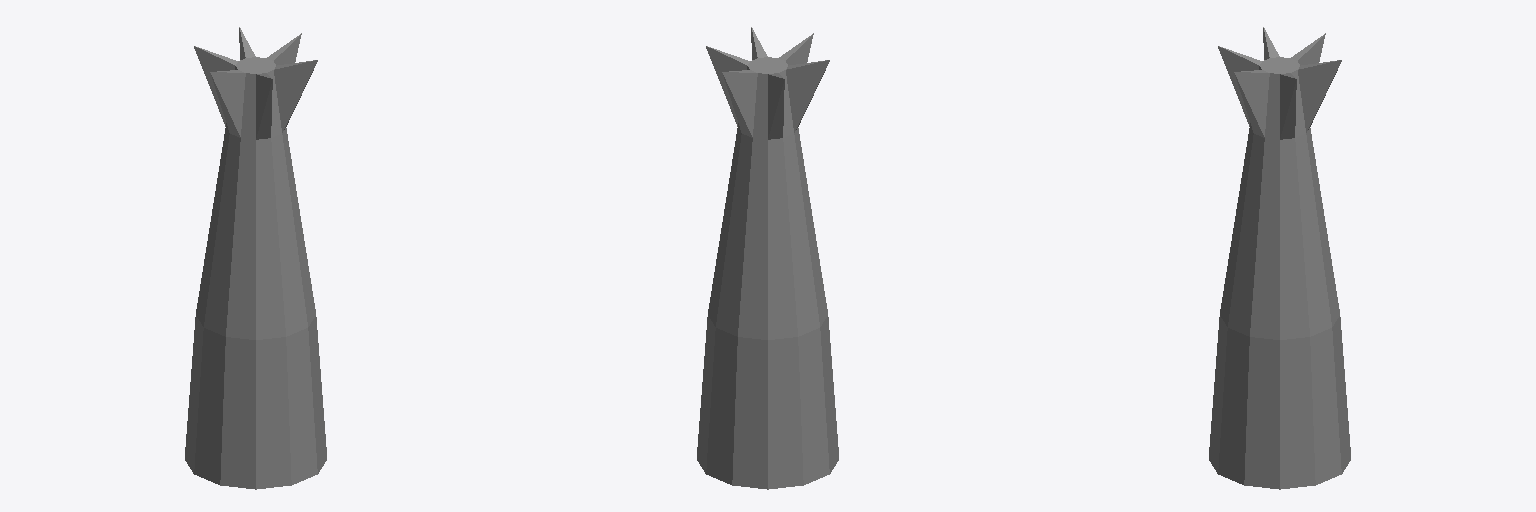
Rendered from top.obj.
The picture shows the model from 3 angles: view 1: azimuth 30°, elevation 25°; view 2: azimuth 150°, elevation 25°; view 3: azimuth 270°, elevation 25°; orthographic projection.
Parts seen in each view (by area): view 1: Object02; view 2: Object02; view 3: Object02.
Boxes of the visible parts, x1,y1,x2,y2 form: Object02: [185, 27, 326, 489]; Object02: [697, 27, 838, 489]; Object02: [1209, 27, 1350, 489].
Bounding box in the file's own units: 1.3 × 4.07 × 1.3.